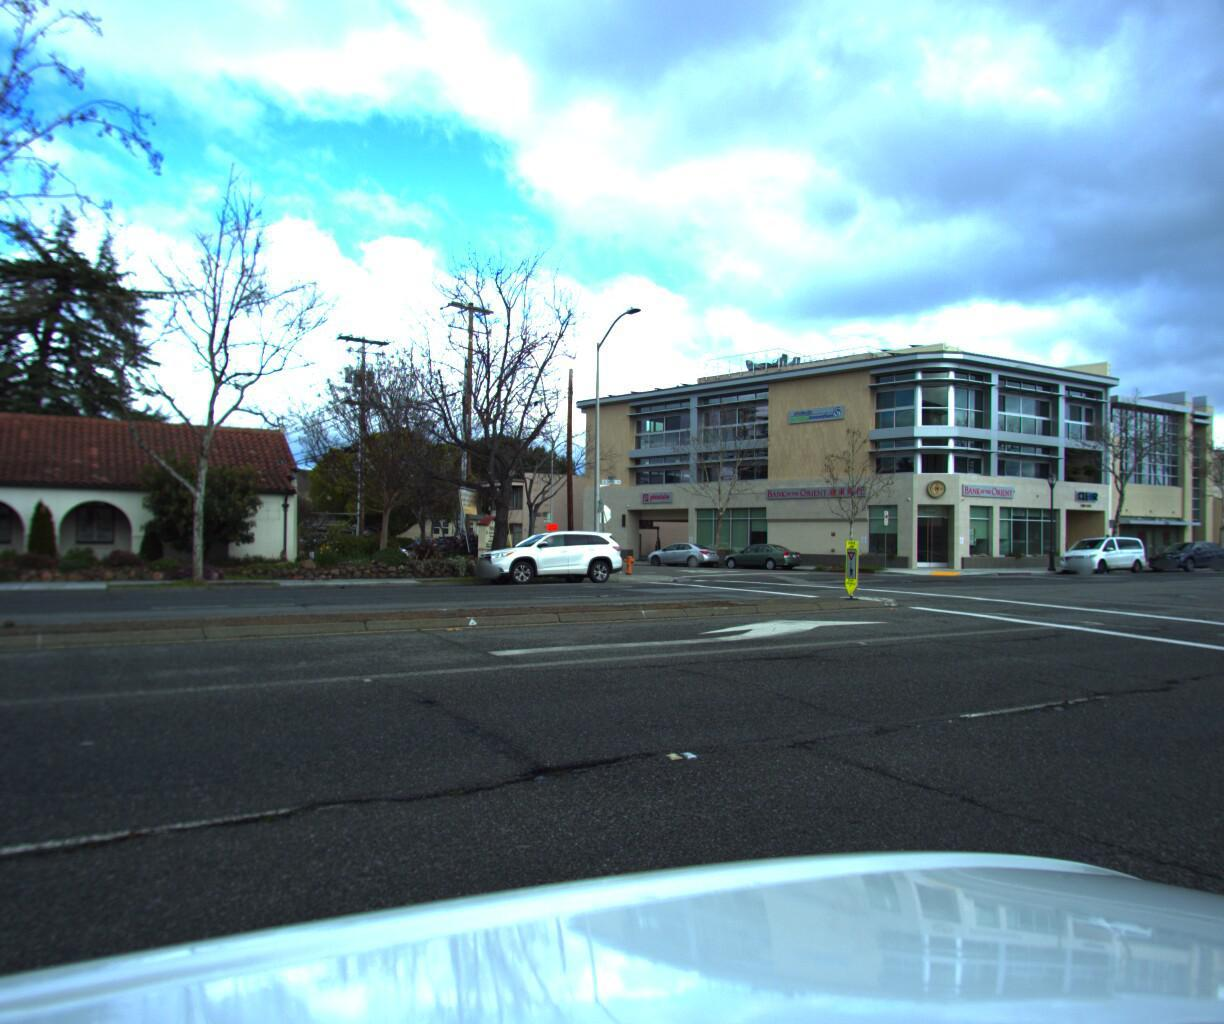car: (464, 525, 632, 589), (1046, 528, 1144, 569), (1133, 532, 1224, 567), (719, 538, 804, 568), (642, 537, 724, 565)
